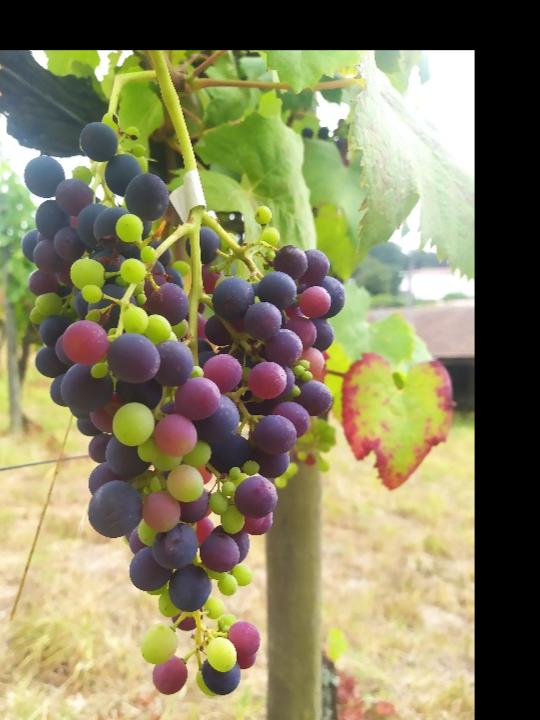grape: (17, 109, 350, 702)
